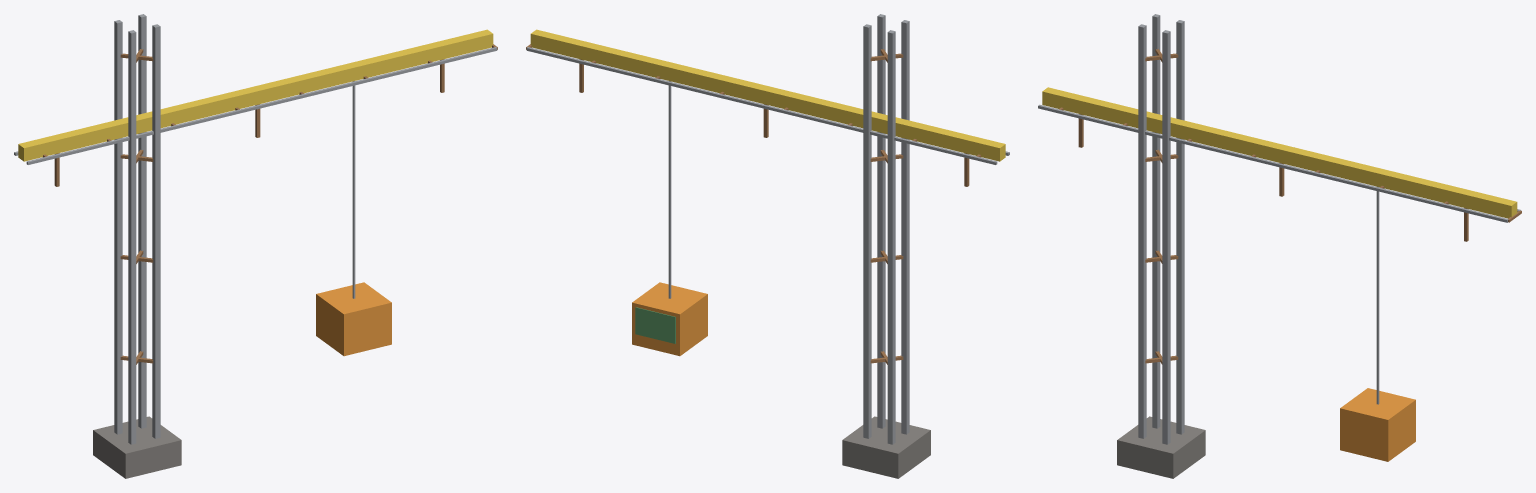
File: 10_slewing_crane.glb
3 views of the same model, side by side, from view 1: azimuth 30°, elevation 25°; view 2: azimuth 150°, elevation 25°; view 3: azimuth 330°, elevation 25° (orthographic).
Visible parts, largest first — view 1: slewing_crane_mast_steel, slewing_crane_jib_dyn_craneyellow, slewing_crane_jib_dyn_hazard, slewing_crane_mast_concretedark, slewing_crane_jib_dyn_steel, slewing_crane_mast_steelrust, slewing_crane_jib_dyn_steelrust; view 2: slewing_crane_mast_steel, slewing_crane_jib_dyn_craneyellow, slewing_crane_mast_concretedark, slewing_crane_jib_dyn_hazard, slewing_crane_jib_dyn_steel, slewing_crane_jib_dyn_safetynet_nocol, slewing_crane_mast_steelrust, slewing_crane_jib_dyn_steelrust; view 3: slewing_crane_mast_steel, slewing_crane_jib_dyn_craneyellow, slewing_crane_jib_dyn_hazard, slewing_crane_mast_concretedark, slewing_crane_jib_dyn_steel, slewing_crane_mast_steelrust, slewing_crane_jib_dyn_steelrust.
Boxes of the visible parts, bbox=[...] form: slewing_crane_mast_steel: bbox=[114, 14, 160, 444]; slewing_crane_jib_dyn_craneyellow: bbox=[18, 29, 493, 161]; slewing_crane_jib_dyn_hazard: bbox=[316, 282, 391, 356]; slewing_crane_mast_concretedark: bbox=[93, 416, 181, 478]; slewing_crane_jib_dyn_steel: bbox=[14, 47, 497, 298]; slewing_crane_mast_steelrust: bbox=[120, 49, 153, 364]; slewing_crane_jib_dyn_steelrust: bbox=[43, 44, 497, 186]; slewing_crane_mast_steel: bbox=[863, 14, 909, 444]; slewing_crane_jib_dyn_craneyellow: bbox=[530, 29, 1005, 161]; slewing_crane_mast_concretedark: bbox=[842, 416, 930, 478]; slewing_crane_jib_dyn_hazard: bbox=[632, 282, 707, 356]; slewing_crane_jib_dyn_steel: bbox=[526, 47, 1009, 298]; slewing_crane_jib_dyn_safetynet_nocol: bbox=[635, 307, 675, 343]; slewing_crane_mast_steelrust: bbox=[870, 49, 903, 364]; slewing_crane_jib_dyn_steelrust: bbox=[526, 44, 980, 186]; slewing_crane_mast_steel: bbox=[1138, 14, 1184, 444]; slewing_crane_jib_dyn_craneyellow: bbox=[1042, 87, 1517, 218]; slewing_crane_jib_dyn_hazard: bbox=[1340, 388, 1415, 461]; slewing_crane_mast_concretedark: bbox=[1117, 416, 1205, 478]; slewing_crane_jib_dyn_steel: bbox=[1038, 104, 1521, 404]; slewing_crane_mast_steelrust: bbox=[1145, 49, 1178, 364]; slewing_crane_jib_dyn_steelrust: bbox=[1059, 107, 1521, 241].
Bounding box in the file's own units: 58.65 × 52 × 7.
